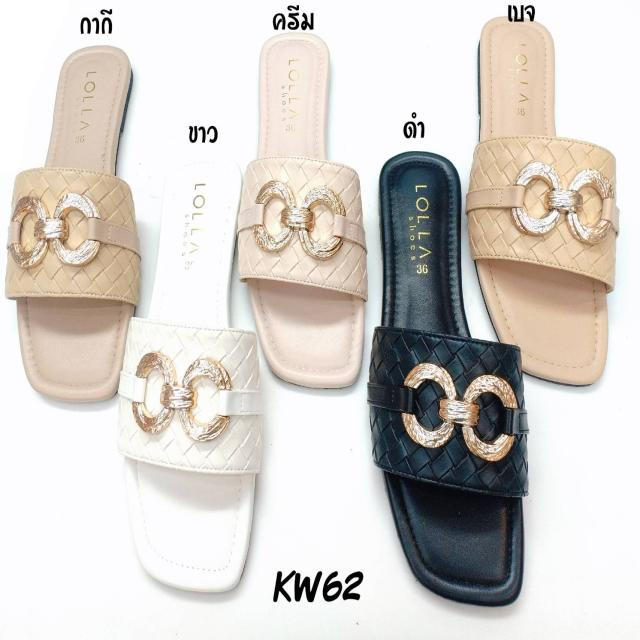bej: (470, 16, 608, 388)
black: (375, 154, 522, 603)
cream: (247, 29, 361, 396)
kakee: (14, 39, 139, 397)
white: (122, 158, 266, 598)
